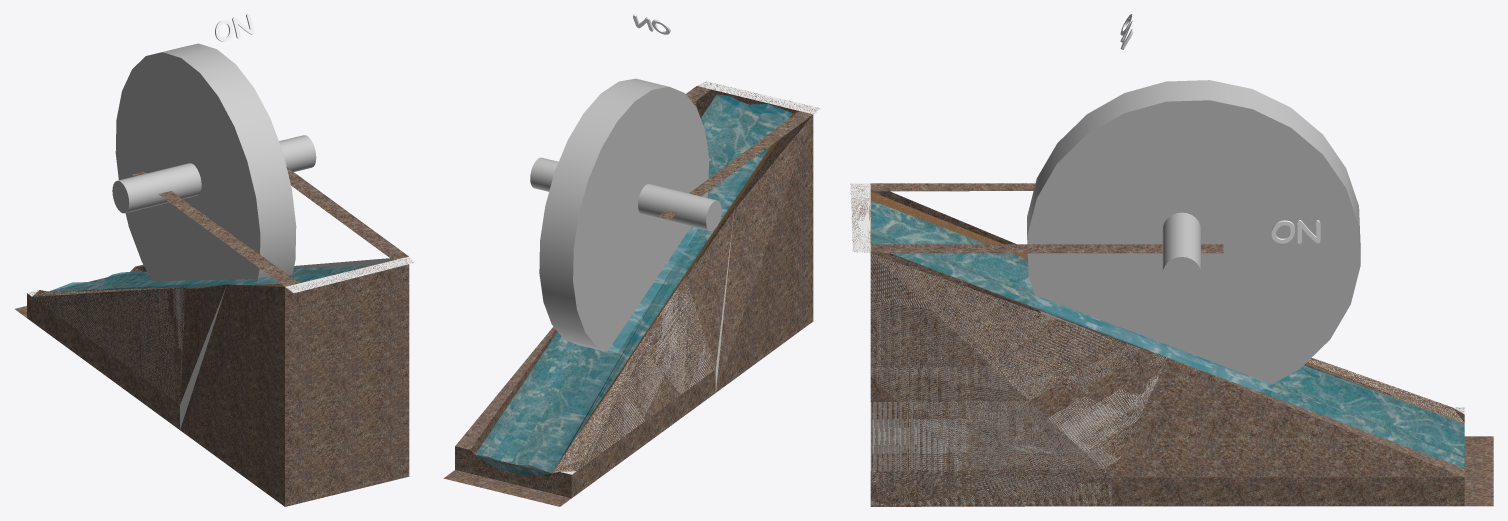
File: resister_Wheel.dae
The picture shows the model from 3 angles, left to right: view 1: azimuth 30°, elevation 25°; view 2: azimuth 150°, elevation 25°; view 3: azimuth 270°, elevation 25°; orthographic projection. The views are drawn at different scales.
Visible parts, largest first — view 1: SketchUp (×10); view 2: SketchUp (×11); view 3: SketchUp (×10).
Boxes of the visible parts, x1,y1,x2,y2 form: SketchUp (×10): (27,43,414,506); SketchUp (×11): (443,78,821,506); SketchUp (×10): (850,80,1493,506).
Bounding box in the file's own units: 98 × 253 × 196.
